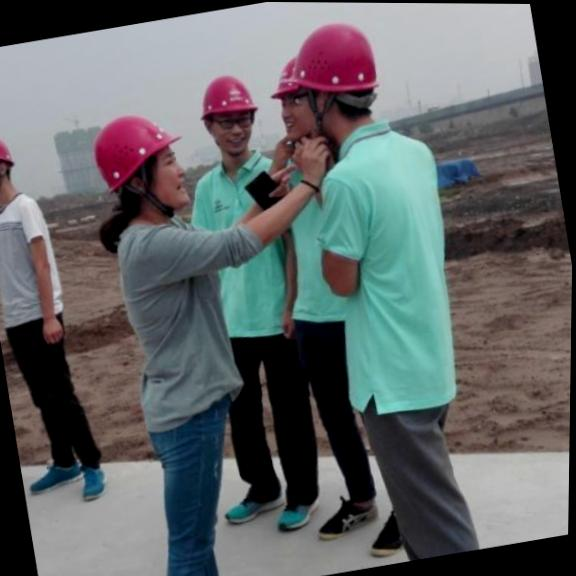no_safety_vest: (311, 118, 479, 400), (98, 203, 249, 418), (171, 148, 290, 333), (264, 150, 344, 318), (0, 186, 74, 349)
